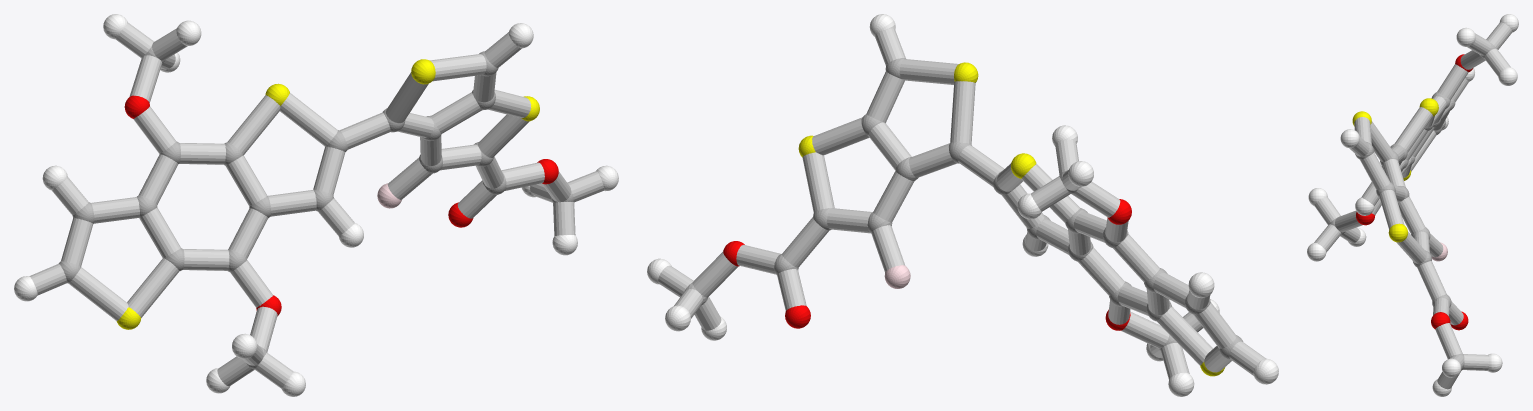
File: color.glb
3 renders of one model, left to right at view 1: azimuth 30°, elevation 25°; view 2: azimuth 150°, elevation 25°; view 3: azimuth 270°, elevation 25°, orthographic. The views are drawn at different scales.
Visible parts, largest first — view 1: grp15205, grp8689, grp1, grp7241, grp13395; view 2: grp15205, grp8689, grp1, grp13395, grp7241; view 3: grp15205, grp8689, grp1, grp7241, grp13395.
Part boxes in pixels (left/top/right/bottom): grp15205: left=29, top=22, right=604, bottom=388; grp8689: left=14, top=14, right=618, bottom=396; grp1: left=59, top=46, right=573, bottom=369; grp7241: left=116, top=59, right=539, bottom=329; grp13395: left=124, top=95, right=558, bottom=316; grp15205: left=658, top=28, right=1265, bottom=379; grp8689: left=647, top=14, right=1278, bottom=396; grp1: left=684, top=58, right=1243, bottom=359; grp13395: left=723, top=199, right=1131, bottom=330; grp7241: left=798, top=62, right=1225, bottom=376; grp15205: left=1314, top=22, right=1512, bottom=389; grp8689: left=1307, top=14, right=1518, bottom=396; grp1: left=1329, top=43, right=1496, bottom=370; grp7241: left=1352, top=98, right=1438, bottom=242; grp13395: left=1356, top=54, right=1473, bottom=330.
Size of the model in its own units: 16.54 by 8.01 by 6.57.
